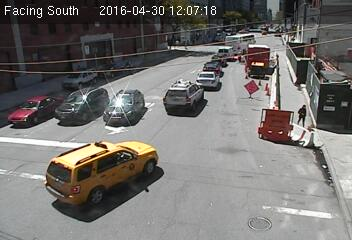neg: (20, 49, 51, 91), (193, 52, 215, 80), (101, 44, 120, 69)
pos: (296, 102, 315, 127)
